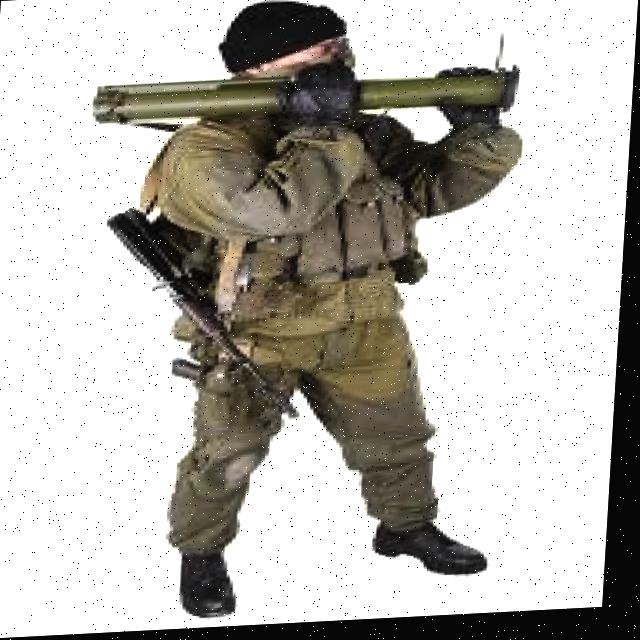rocket: (92, 65, 527, 148)
